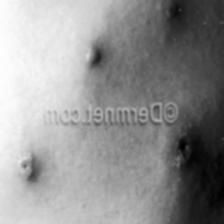Toxin: (171, 132, 209, 176), (15, 144, 37, 182), (78, 42, 110, 68), (163, 0, 183, 23)
